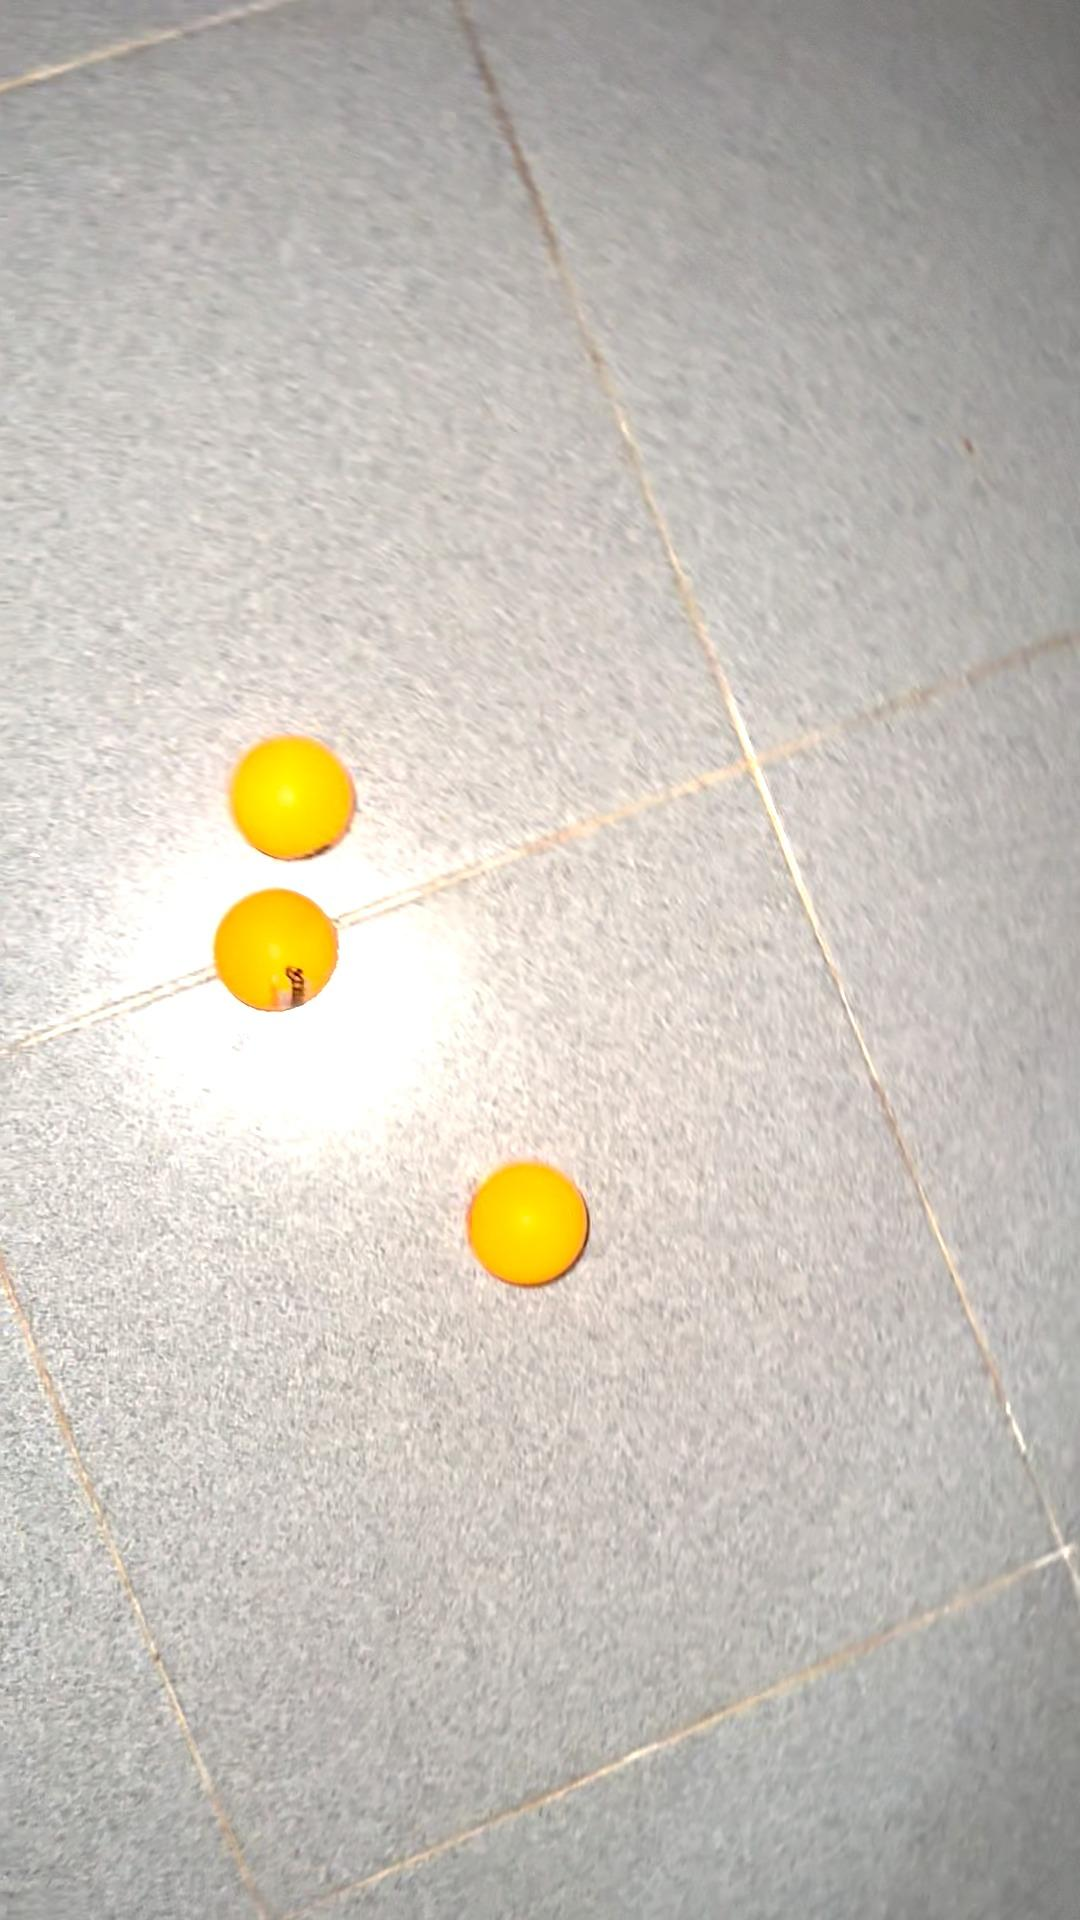oball: (224, 720, 368, 866), (462, 1151, 595, 1295), (215, 878, 348, 1017)
